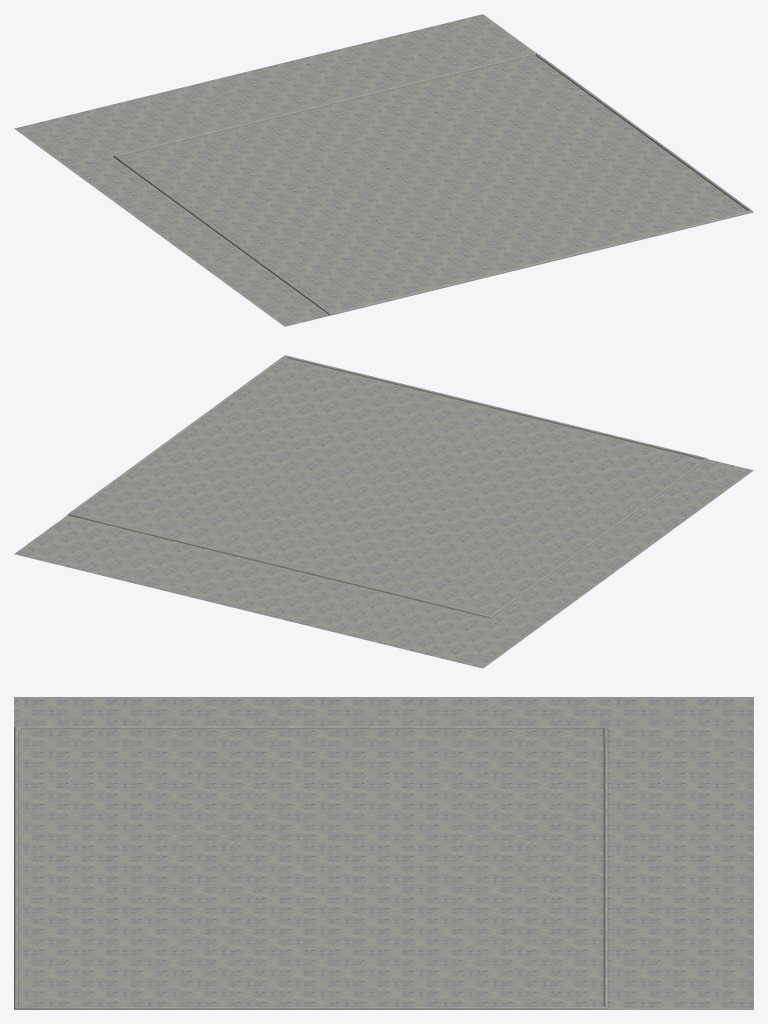
File: pisoModular.fbx
The picture shows the model from 3 angles, top to bottom: view 1: azimuth 30°, elevation 25°; view 2: azimuth 150°, elevation 25°; view 3: azimuth 270°, elevation 25°; orthographic projection. The views are drawn at different scales.
Parts seen in each view (by area): view 1: piso, vereda; view 2: piso, vereda; view 3: piso, vereda.
Boxes of the visible parts, <box> form: piso: <box>14,14,753,326</box>; vereda: <box>113,52,752,315</box>; piso: <box>14,358,753,668</box>; vereda: <box>68,355,707,618</box>; piso: <box>14,697,753,1009</box>; vereda: <box>14,726,608,1009</box>.
Size of the model in its own units: 30 by 0.1 by 30.
1 material, 1 textured.
